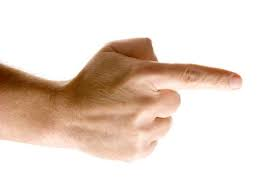move: (69, 38, 244, 162)
